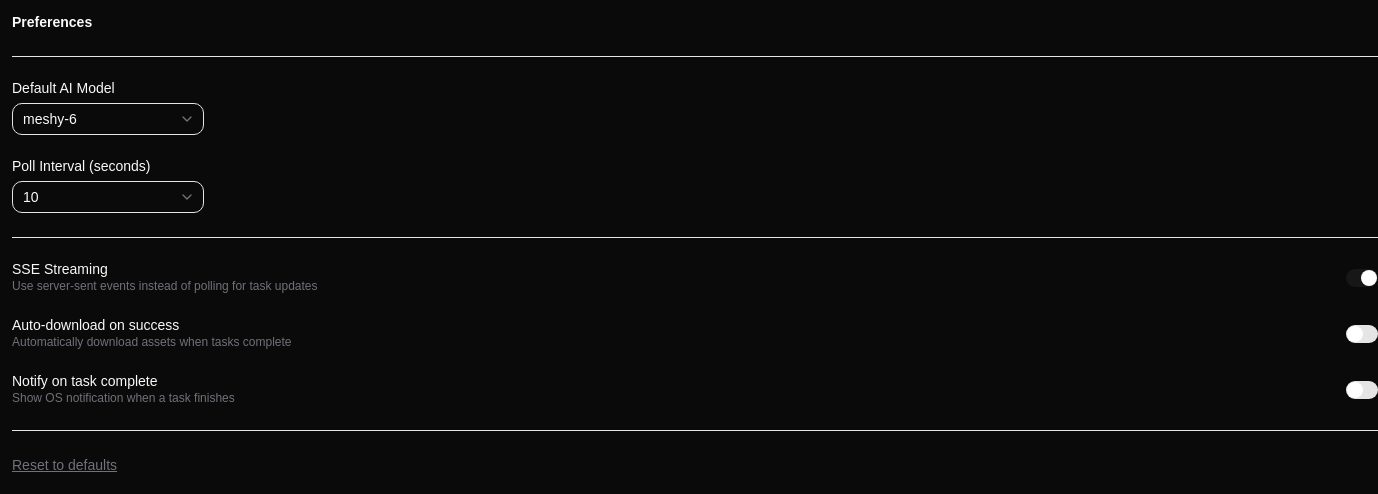
PreferencesPanel › restores all values to TDD defaults when Reset to defaults is clicked
What coordinates should you click on to do the following:
click the button "Reset to defaults"
I would click on:
 (65, 465)
Its box is 12,455 -> 117,475.
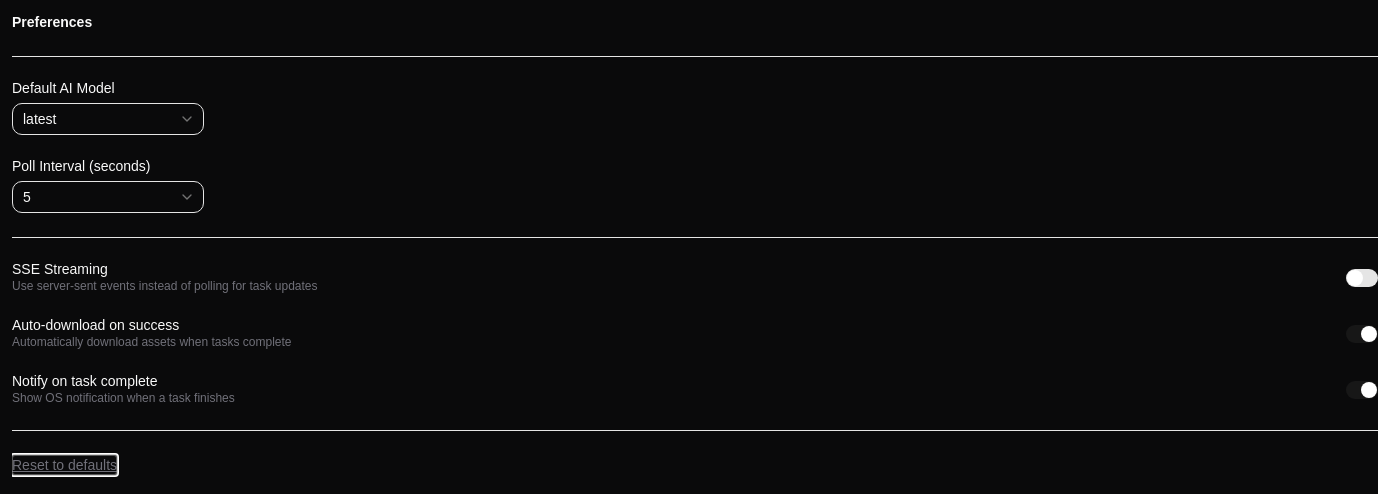
Now the text "latest" is shown, box 23,111 -> 56,127
